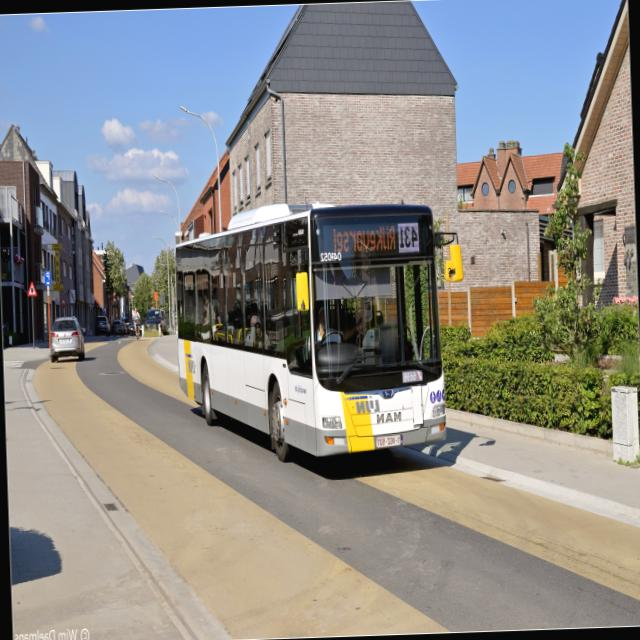bus-number: (398, 222, 418, 252)
